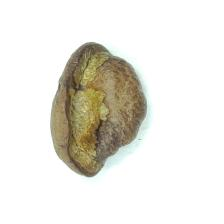NG: (64, 42, 145, 173)
